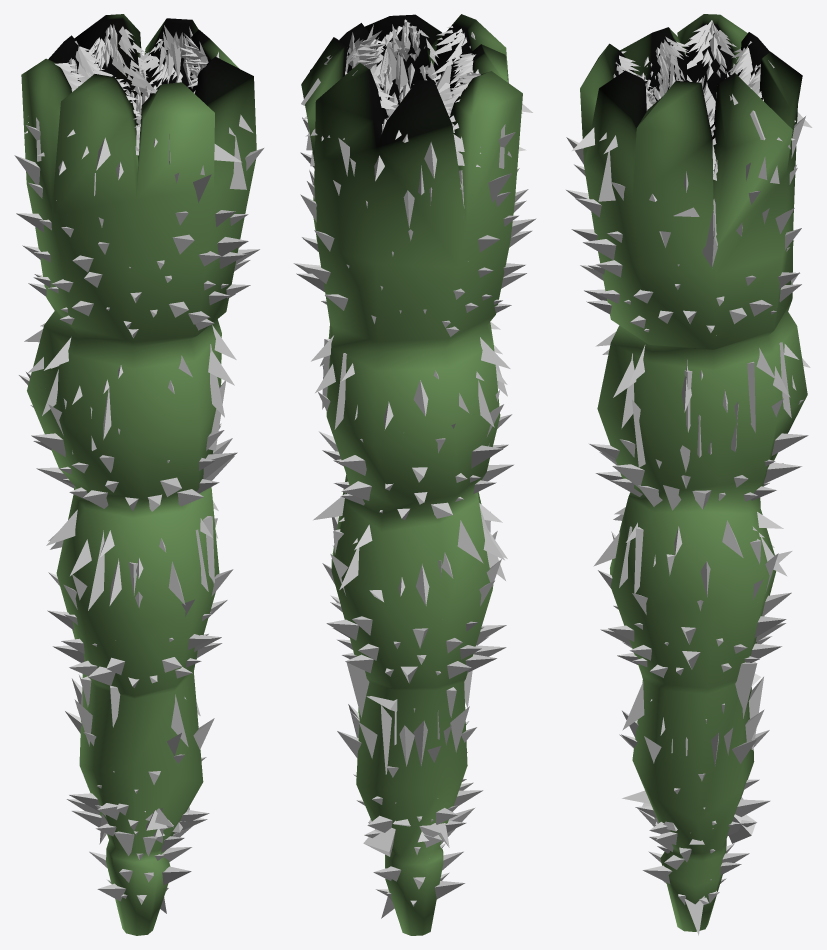
Rendered from Worm.fbx.
3 renders of one model, left to right at view 1: azimuth 30°, elevation 25°; view 2: azimuth 150°, elevation 25°; view 3: azimuth 270°, elevation 25°, orthographic.
Parts seen in each view (by area): view 1: Worm; view 2: Worm; view 3: Worm.
Boxes of the visible parts, left/top/right/bottom form: Worm: left=14, top=14, right=263, bottom=935; Worm: left=293, top=14, right=536, bottom=935; Worm: left=566, top=14, right=812, bottom=935.
Bounding box in the file's own units: 239 × 953 × 243.
